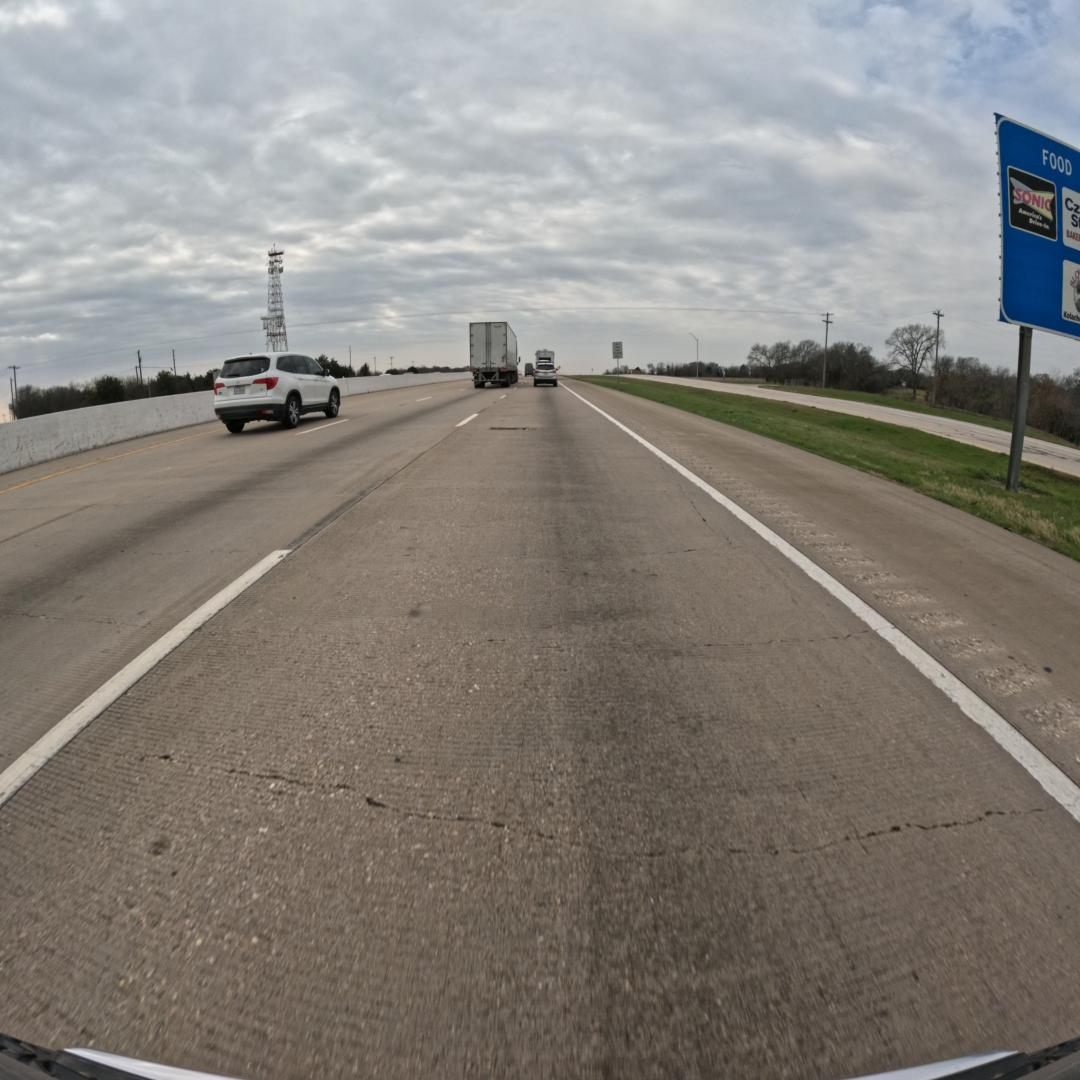lane0: (0, 389, 1080, 1077)
lane1: (0, 387, 516, 803)
